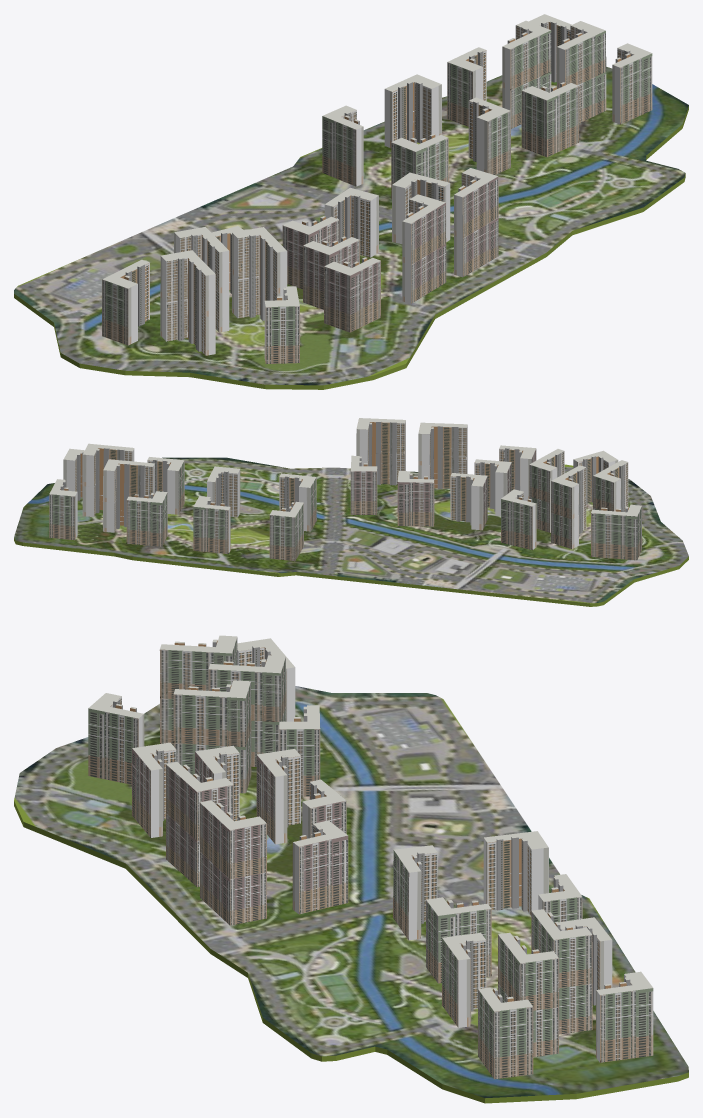
The model's file is ICJ00106_D.glb.
3 renders of one model, top to bottom at view 1: azimuth 30°, elevation 25°; view 2: azimuth 150°, elevation 25°; view 3: azimuth 270°, elevation 25°, orthographic. The views are drawn at different scales.
Parts seen in each view (by area): view 1: MainBuilding; view 2: MainBuilding; view 3: MainBuilding.
Boxes of the visible parts, x1,y1,x2,y2 form: MainBuilding: (14, 14, 688, 389); MainBuilding: (14, 418, 688, 606); MainBuilding: (14, 635, 688, 1103).
Size of the model in its own units: 30544 by 3473 by 20739.
1 material, 1 textured.
